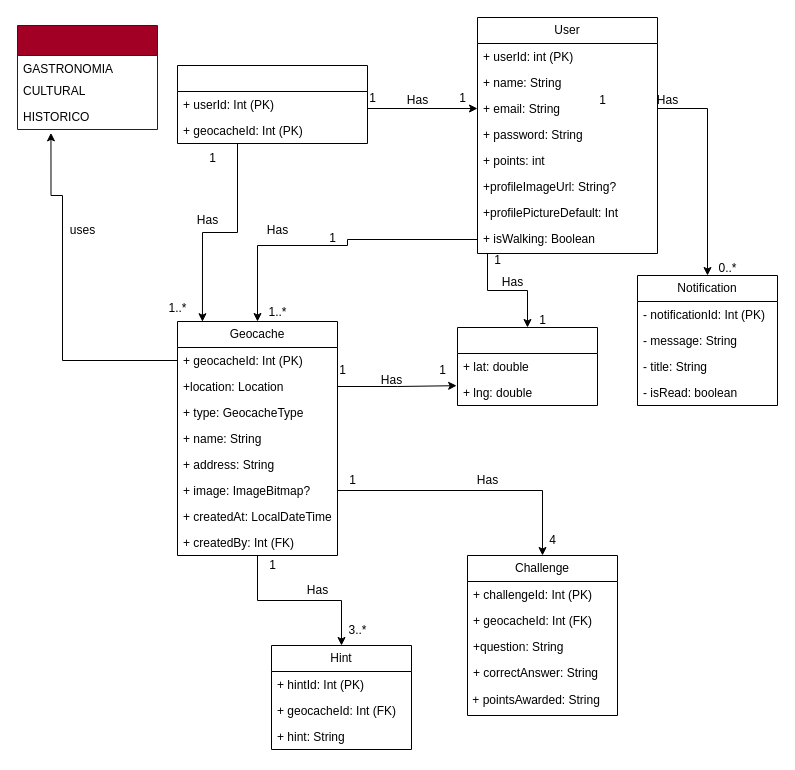
Some shapes in this 795 by 770 pixel diagram are drawn without their labels. Each missing label, with the box of its shape:
<<enumeration>> GeocacheType: (16, 24, 158, 130)
Location: (456, 326, 598, 406)
UserGeocacheFoundCrossRef: (176, 64, 368, 144)
